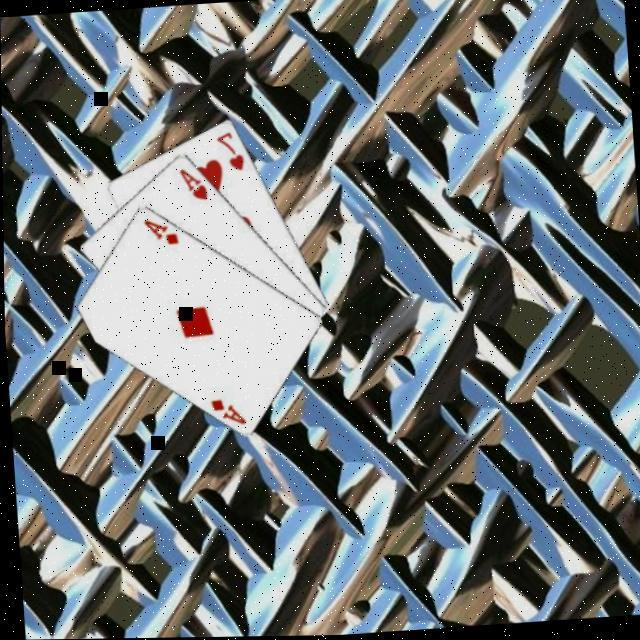7H: (215, 129, 250, 177)
AD: (208, 395, 249, 431), (142, 216, 184, 250)
AH: (177, 165, 211, 206)
